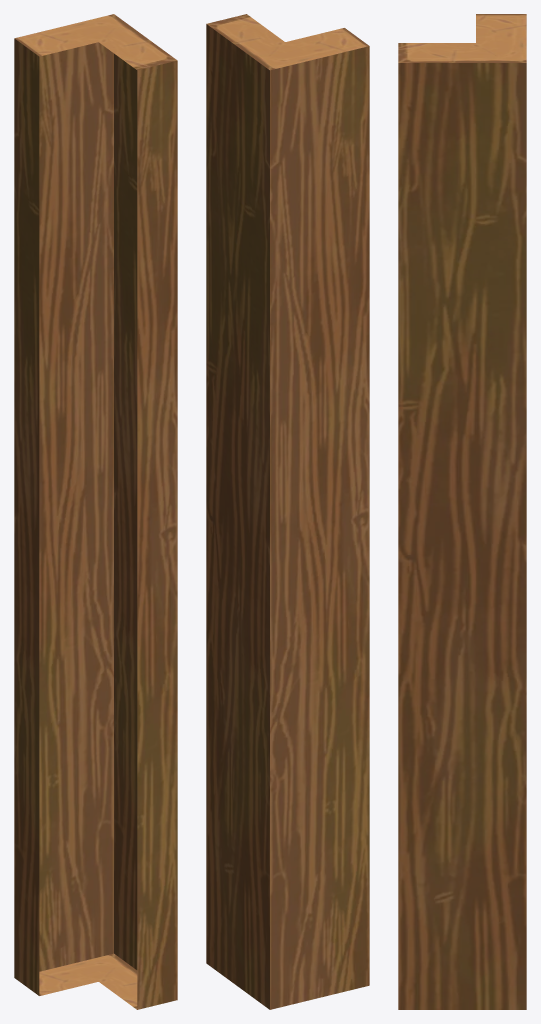
File: Corner_Interior_Big.glb
3 renders of one model, left to right at view 1: azimuth 30°, elevation 25°; view 2: azimuth 210°, elevation 25°; view 3: azimuth 270°, elevation 25°, orthographic.
Parts seen in each view (by area): view 1: Corner_Interior_Big; view 2: Corner_Interior_Big; view 3: Corner_Interior_Big.
Boxes of the visible parts, left/top/right/bottom form: Corner_Interior_Big: left=14, top=14, right=177, bottom=1009; Corner_Interior_Big: left=206, top=14, right=369, bottom=1009; Corner_Interior_Big: left=398, top=14, right=526, bottom=1009.
Bounding box in the file's own units: 0.3333 × 3 × 0.3681.
Materials: 1 (1 with a texture image).
